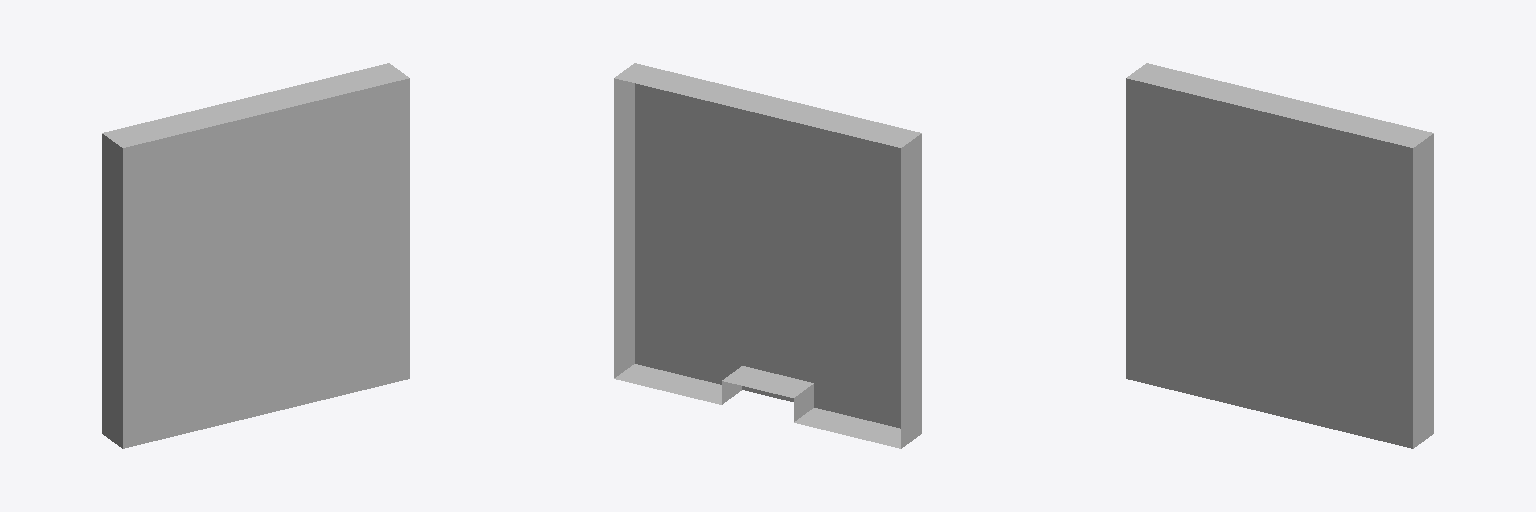
Rendered from muzeum_13.obj.
3 views of the same model, side by side, from view 1: azimuth 30°, elevation 25°; view 2: azimuth 150°, elevation 25°; view 3: azimuth 330°, elevation 25° (orthographic).
Visible parts, largest first — view 1: Cube.001; view 2: Cube.001; view 3: Cube.001.
Boxes of the visible parts, box(x1,y1,x2,y2) form: Cube.001: box(102, 63, 409, 448); Cube.001: box(614, 63, 921, 448); Cube.001: box(1126, 63, 1433, 448).
Size of the model in its own units: 0.0242 by 0.0242 by 0.003.